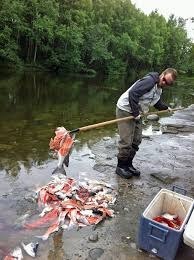kitchen_waste: (49, 124, 77, 178), (35, 218, 61, 241), (90, 200, 118, 221), (33, 186, 53, 215), (62, 205, 83, 232), (19, 238, 44, 259), (70, 184, 90, 205)
